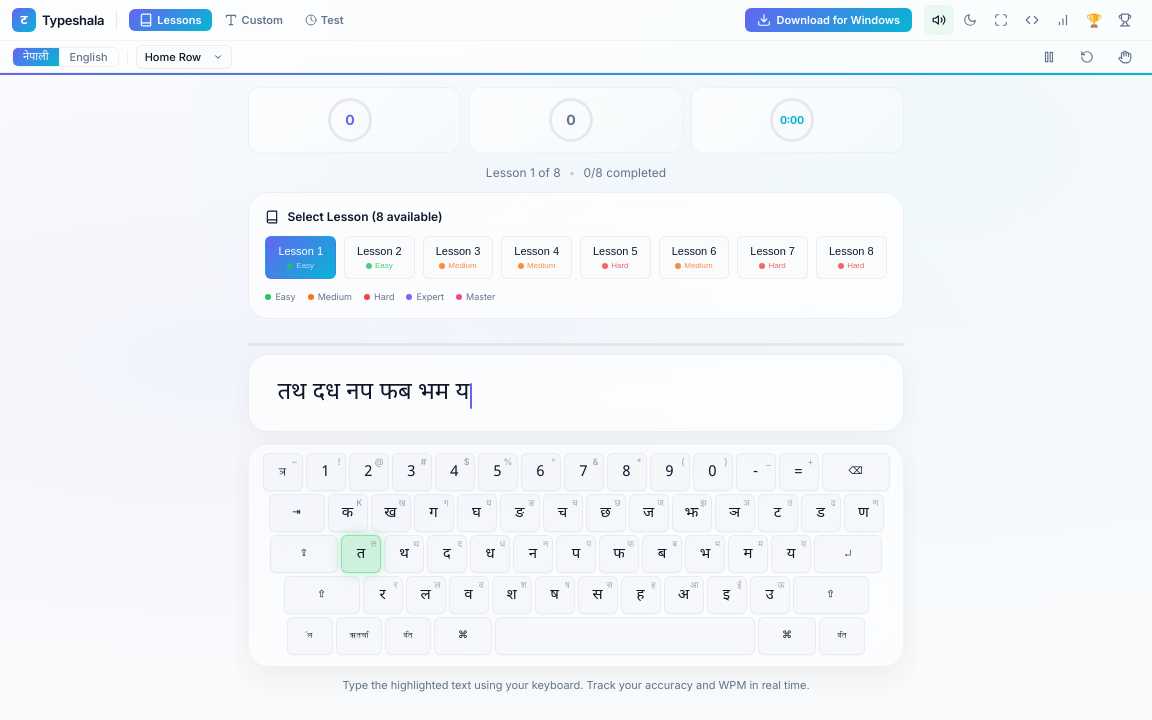
Test case: Header (via TypingTutor) › hides practice controls in test mode
This screenshot has width=1152, height=720.
Click the button "Test".
click(324, 20)  # box [295,9,354,31]
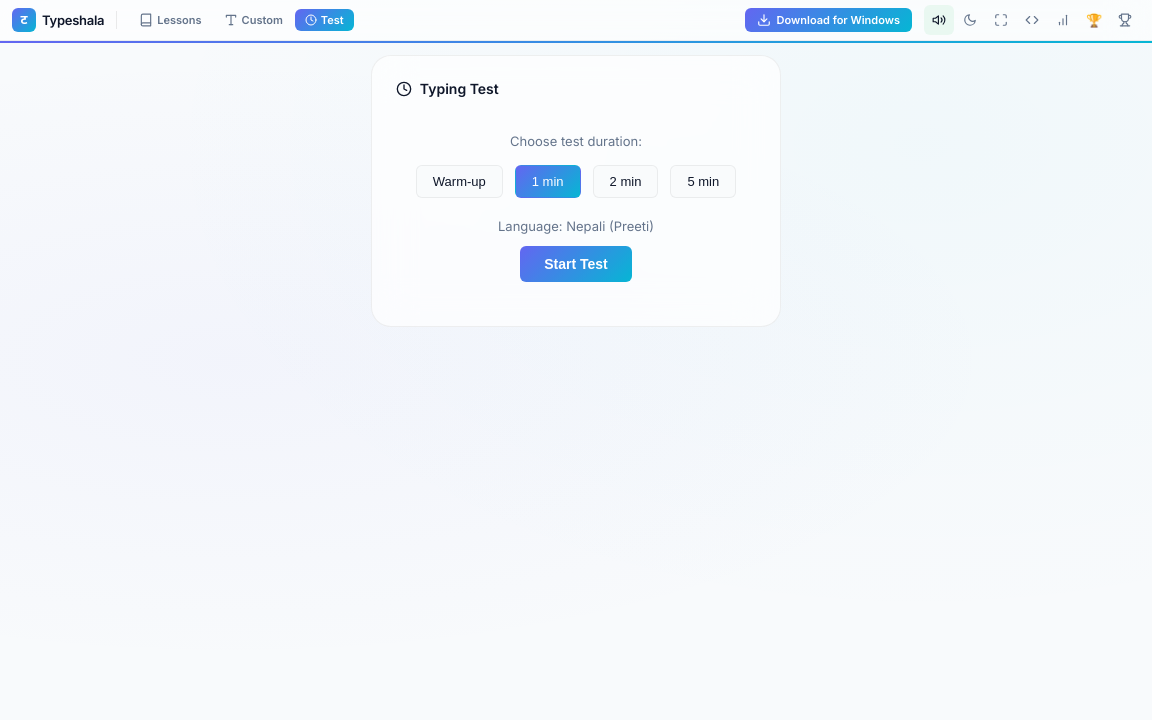
Now the button titled "Pause" is gone
Now the button titled "Restart" is gone
